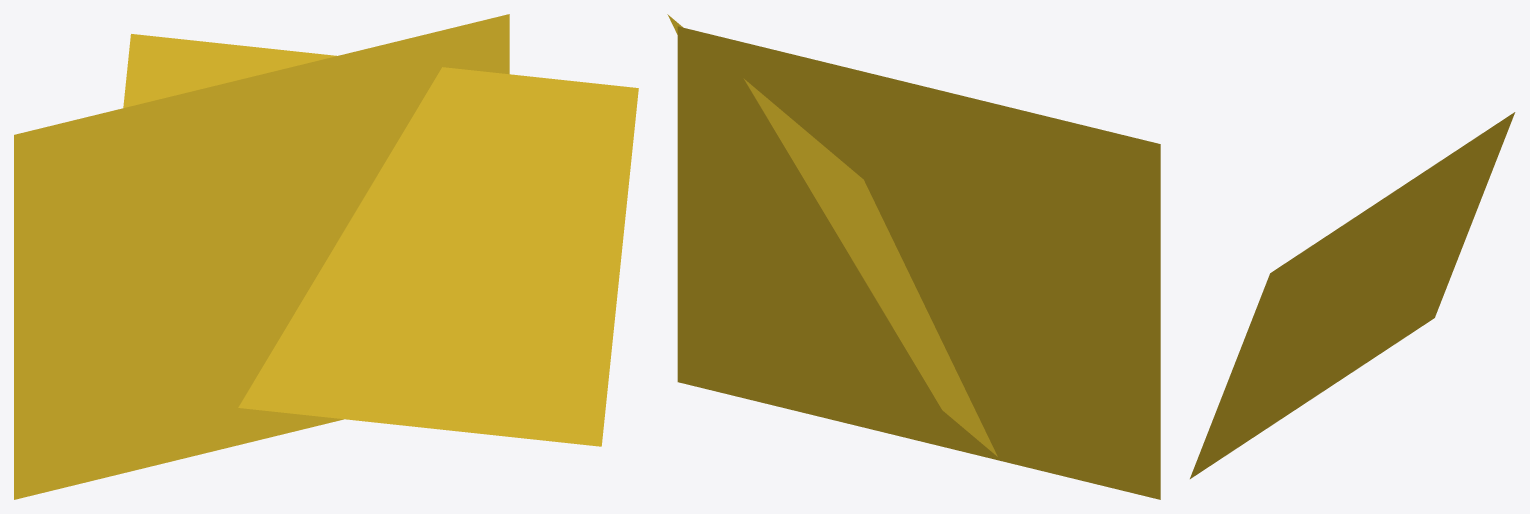
Rendered from Grass Blade Bark MAIN GRASS.fbx.
3 renders of one model, left to right at view 1: azimuth 30°, elevation 25°; view 2: azimuth 150°, elevation 25°; view 3: azimuth 270°, elevation 25°, orthographic. The views are drawn at different scales.
Parts seen in each view (by area): view 1: Quad, Quad 1; view 2: Quad, Quad 1; view 3: Quad 1.
Part boxes in pixels (box(x1,y1,x2,y2)): Quad: box(14, 14, 509, 499); Quad 1: box(123, 34, 638, 446); Quad: box(677, 26, 1160, 499); Quad 1: box(667, 14, 997, 456); Quad 1: box(1190, 112, 1515, 478).
Bounding box in the file's own units: 2.24 × 1.38 × 1.4.
